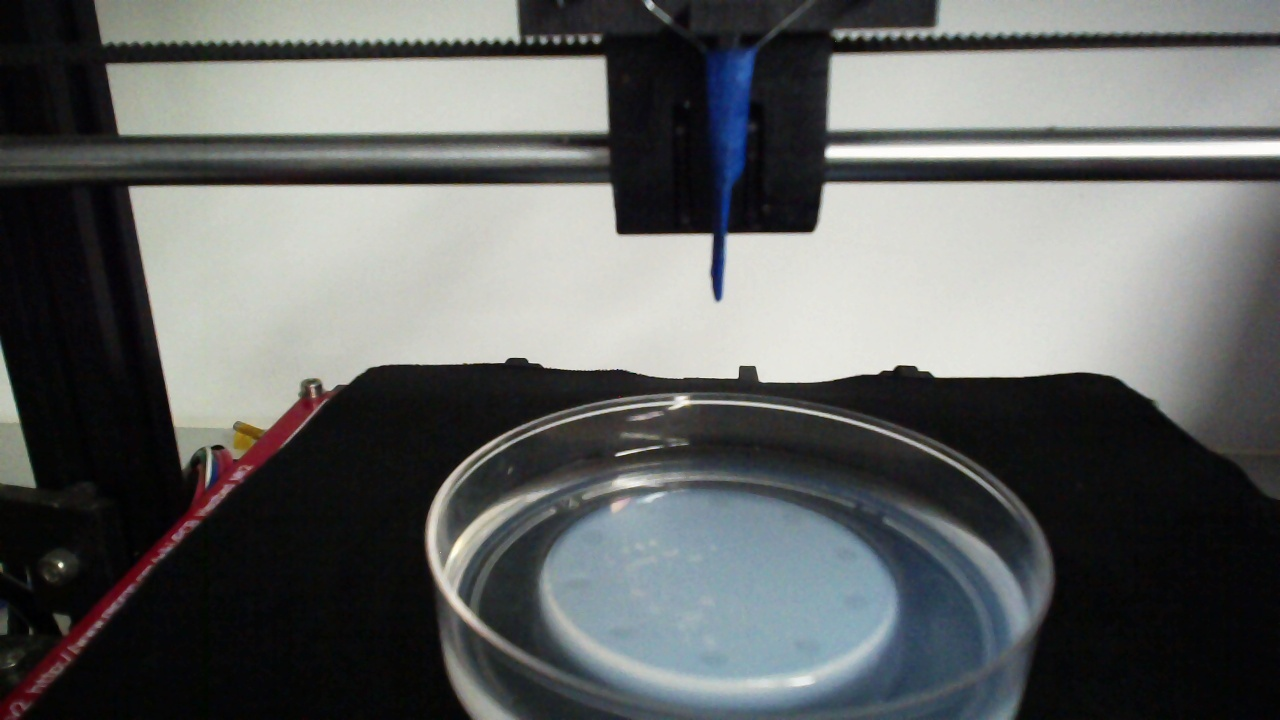groove: (792, 637, 825, 654), (840, 594, 871, 612), (699, 651, 729, 668), (579, 528, 603, 549), (564, 577, 591, 595), (835, 545, 860, 563), (781, 508, 803, 526), (608, 626, 633, 641), (707, 492, 730, 508), (636, 500, 658, 515)
needle: (712, 54, 752, 302)
